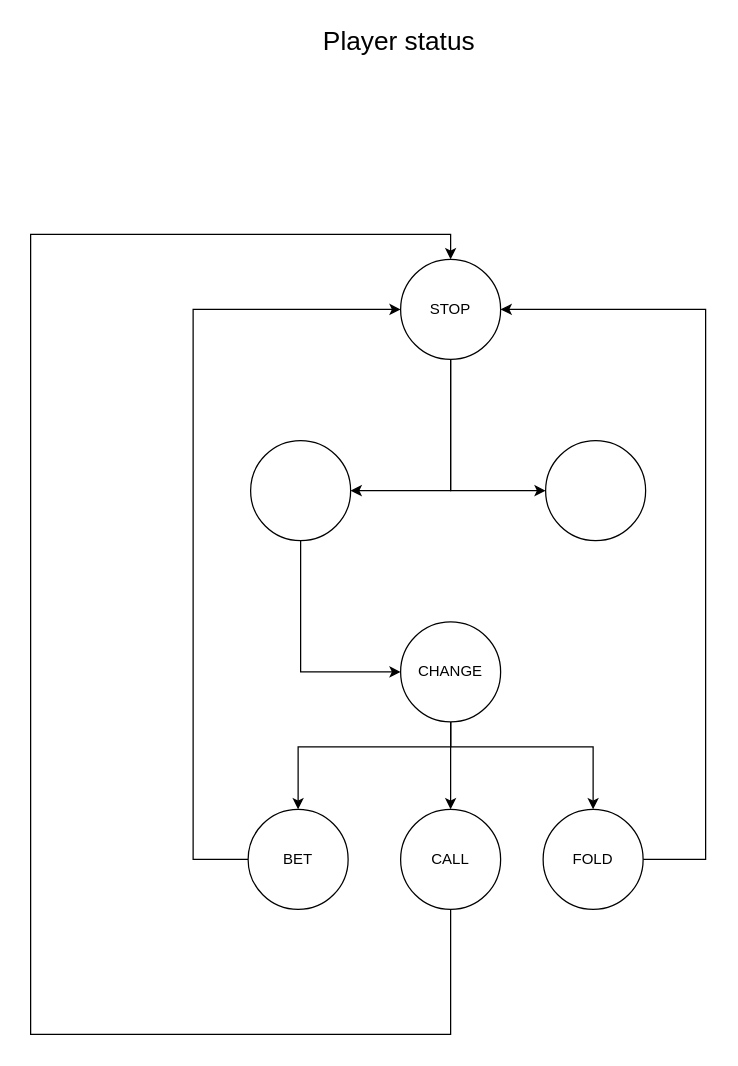
Some shapes in this 738 by 1066 pixel diagram are drawn without their labels. The box of each missing label's shape, as (x1, y1, x2, y2) in pixels:
PLAY: (249, 439, 351, 541)
SKIP: (544, 439, 646, 541)
